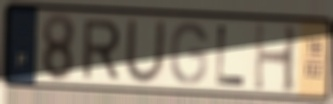8: (40, 9, 77, 85)
G: (168, 20, 210, 87)
H: (251, 18, 300, 96)
L: (214, 23, 249, 88)
R: (80, 17, 123, 81)
U: (123, 18, 168, 86)
